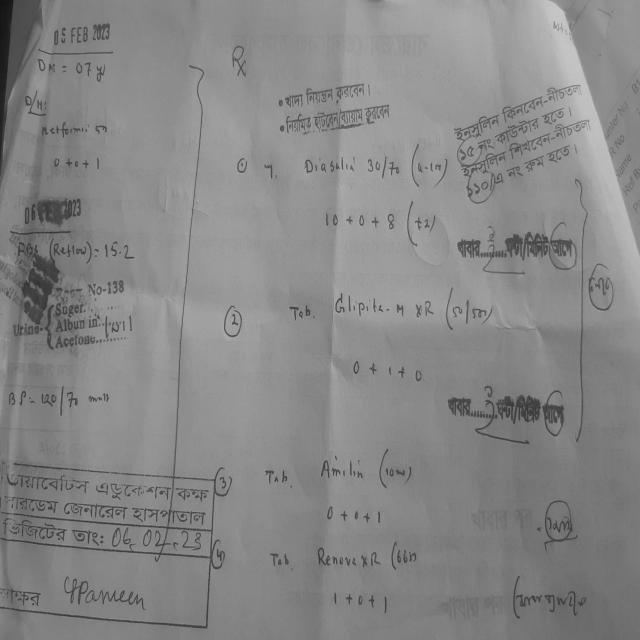medicine: (329, 288, 436, 328), (307, 540, 383, 575), (318, 453, 368, 489), (299, 153, 362, 180)
